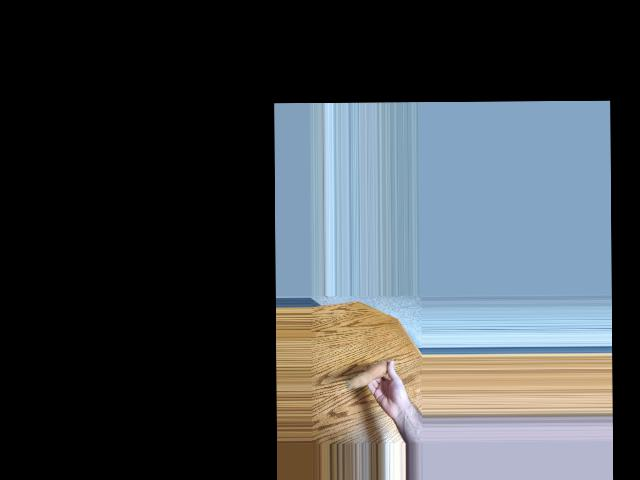sweet_potato: (344, 358, 396, 393)
